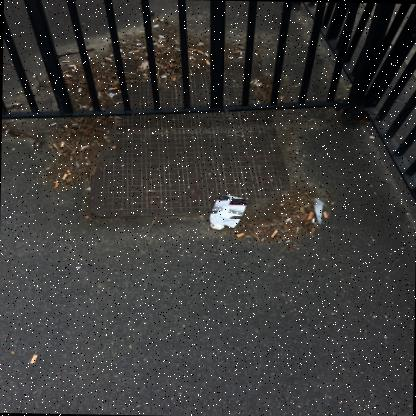Cigarette: (30, 355, 37, 364), (270, 230, 277, 237), (236, 233, 244, 238), (62, 173, 68, 179), (108, 87, 117, 90), (322, 212, 327, 217), (285, 217, 290, 222), (60, 141, 64, 147), (66, 170, 71, 174), (227, 55, 232, 59), (50, 122, 56, 125), (105, 57, 111, 60), (158, 35, 164, 38), (152, 24, 158, 27), (77, 88, 81, 92), (205, 60, 209, 64), (285, 239, 289, 243), (198, 42, 203, 45), (252, 81, 257, 84), (237, 56, 242, 59), (158, 39, 165, 41), (73, 66, 76, 70), (152, 18, 158, 20), (197, 51, 203, 53), (13, 103, 19, 105), (66, 75, 71, 77), (134, 50, 139, 52), (159, 19, 164, 21), (205, 53, 208, 56), (240, 51, 242, 55), (82, 106, 86, 108), (62, 61, 68, 62), (46, 81, 49, 83), (139, 31, 143, 32)
Drink can: (209, 194, 247, 229)
Pop tab: (210, 223, 216, 228)
Unlabeled litter: (313, 198, 324, 224)
